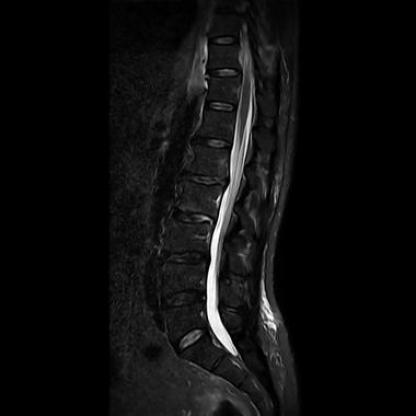Annular Tearrotation: (157, 285, 208, 309)
Disc Bulgerotation: (156, 246, 207, 270), (158, 285, 209, 309), (168, 208, 213, 228)
Disc Protrusionrotation: (183, 169, 226, 187)
